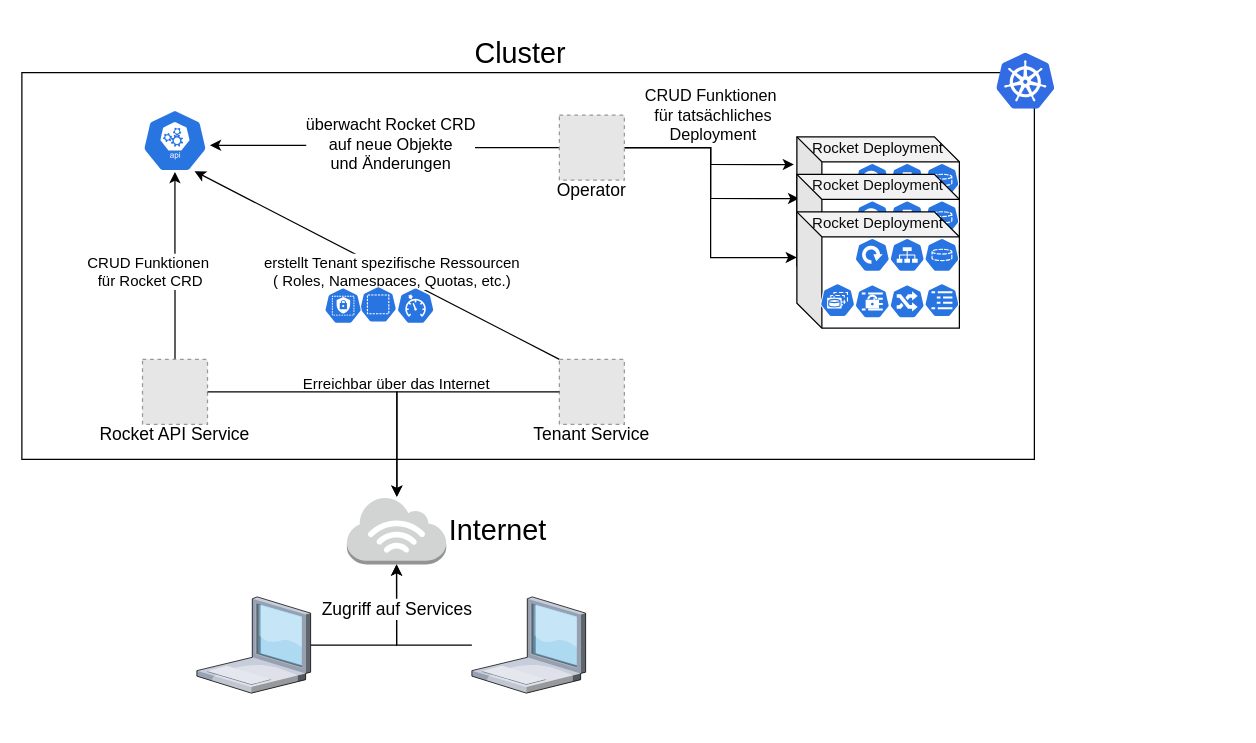
This 1256x743 diagram has some shape labels left out. Grey dashed boxes stand in for pictures. The shapes that lost their labels are listed below. From the top down, each one's box as (x1, y1, x2, y2) in pixels, then its label:
(129, 108, 220, 172): Kubernertes API Server
(196, 596, 310, 692): Web Interface
(471, 596, 585, 692): Command Line Interface
